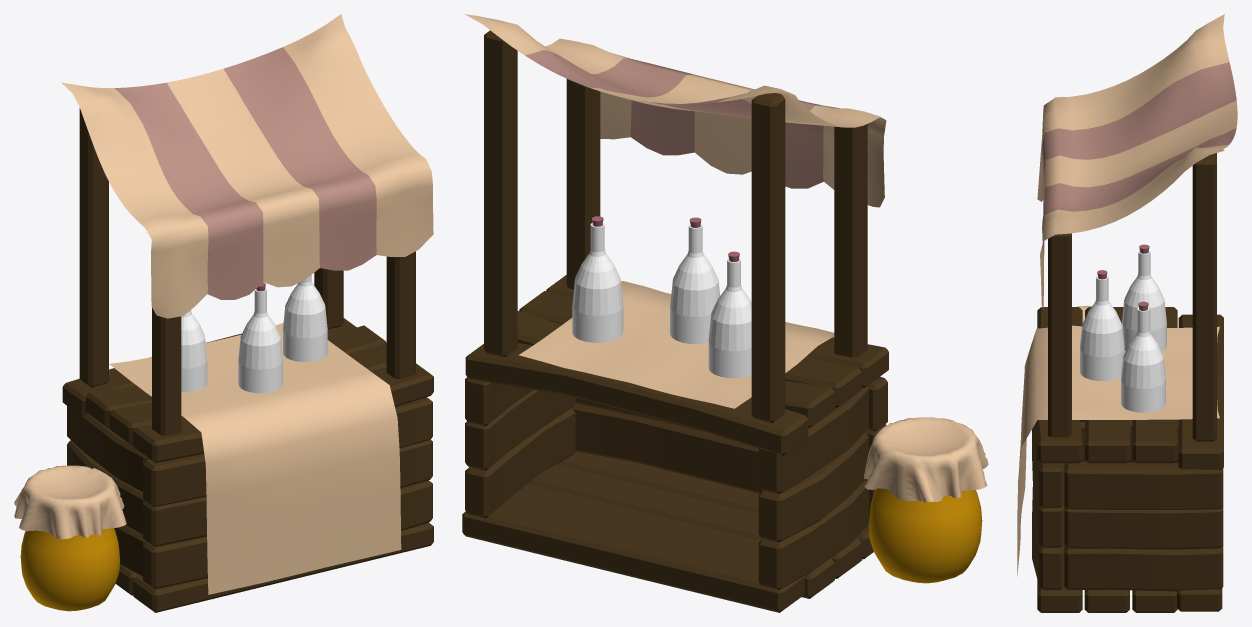
File: TownMarketStall.fbx
3 views of the same model, side by side, from view 1: azimuth 30°, elevation 25°; view 2: azimuth 150°, elevation 25°; view 3: azimuth 270°, elevation 25° (orthographic). The views are drawn at different scales.
Parts seen in each view (by area): view 1: Marketstall_Roof; view 2: Marketstall_Roof; view 3: Marketstall_Roof.
Boxes of the visible parts, x1,y1,x2,y2 form: Marketstall_Roof: (14,14,433,612); Marketstall_Roof: (462,14,988,612); Marketstall_Roof: (1017,14,1237,612).
Size of the model in its own units: 340 by 382 by 165.
